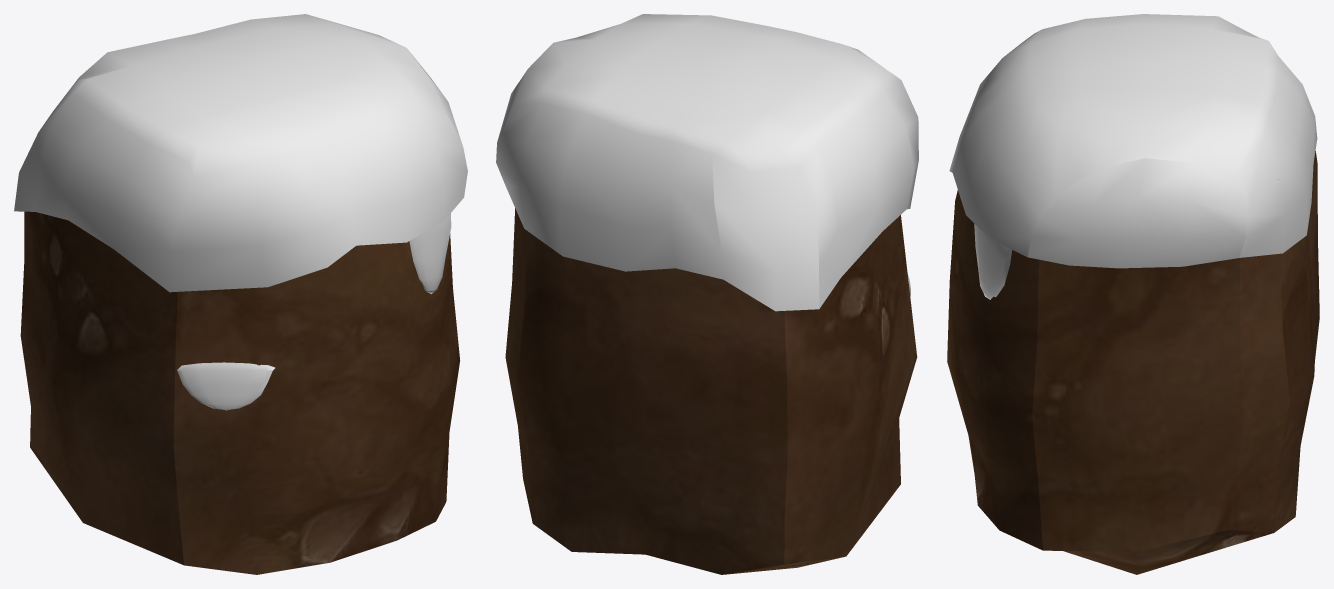
The model's file is stone.fbx.
The picture shows the model from 3 angles, left to right: view 1: azimuth 30°, elevation 25°; view 2: azimuth 150°, elevation 25°; view 3: azimuth 270°, elevation 25°; orthographic projection. The views are drawn at different scales.
Parts seen in each view (by area): view 1: polySurface178; view 2: polySurface178; view 3: polySurface178.
Part boxes in pixels (bbox=[...]): polySurface178: bbox=[14, 14, 467, 574]; polySurface178: bbox=[496, 14, 918, 574]; polySurface178: bbox=[947, 14, 1319, 574].
Bounding box in the file's own units: 4.45 × 5.76 × 4.12.
